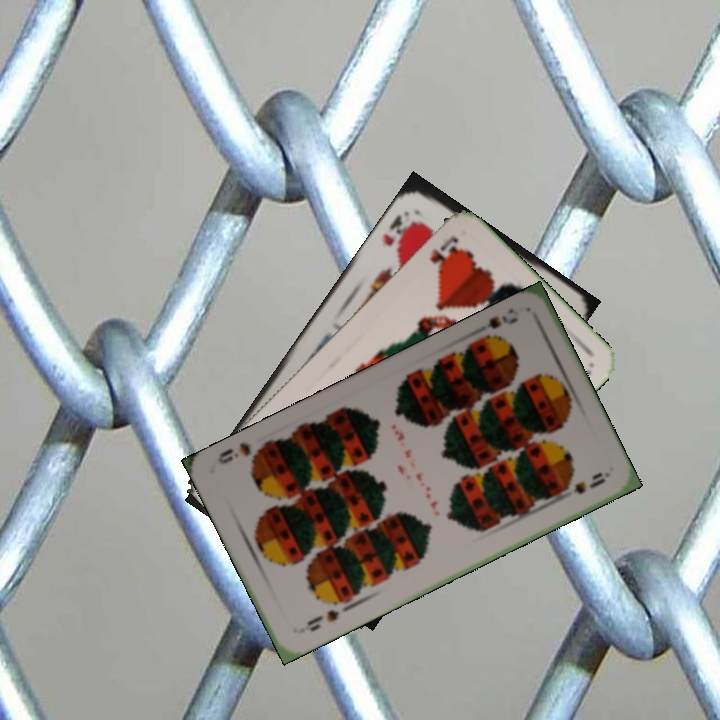HK: (379, 206, 419, 254)
HO: (425, 231, 464, 275)
S9: (469, 311, 521, 343), (302, 605, 342, 635)
